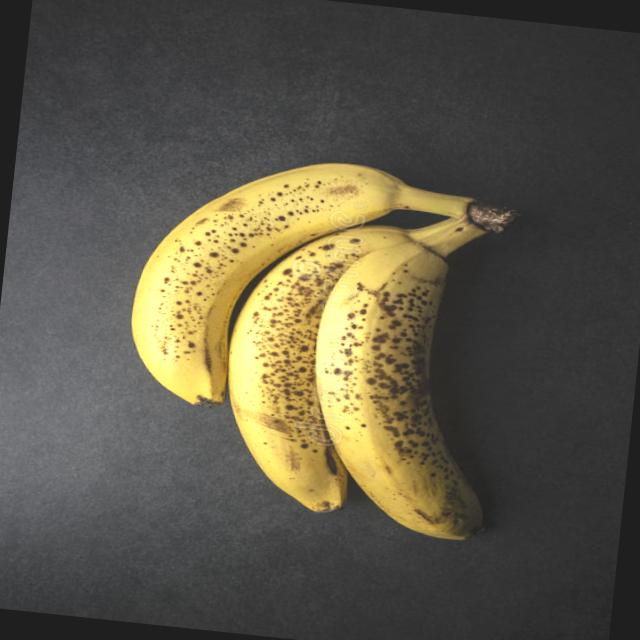Platano: (111, 139, 528, 543)
